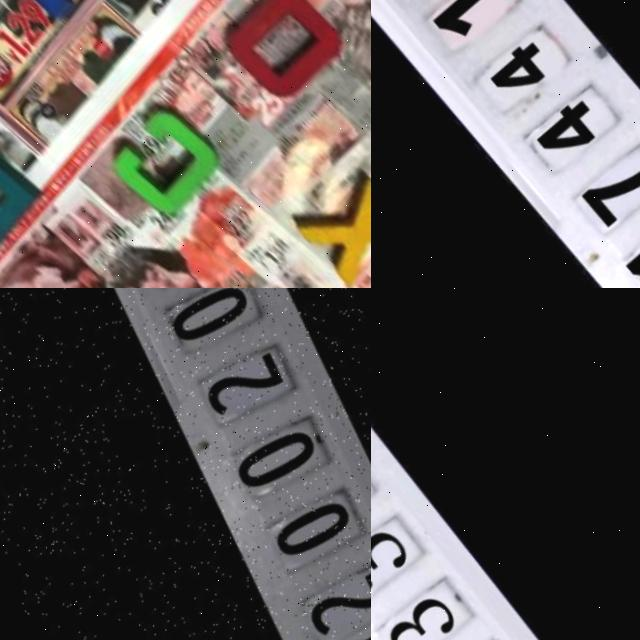0: (211, 398, 348, 535), (249, 467, 371, 600), (144, 288, 280, 387)
1: (422, 0, 525, 66)
2: (181, 324, 312, 456), (285, 544, 371, 640)
3: (371, 574, 482, 640), (371, 509, 431, 621)
4: (516, 79, 626, 191), (468, 19, 575, 128)
7: (567, 139, 640, 249)
C: (109, 100, 231, 221)
D: (0, 136, 48, 260)
O: (215, 0, 350, 110)
X: (287, 163, 371, 288)
